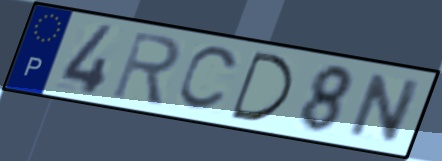4: (58, 23, 115, 97)
8: (297, 63, 355, 136)
C: (174, 45, 243, 114)
D: (227, 48, 296, 124)
N: (342, 71, 425, 146)
R: (108, 29, 183, 108)
